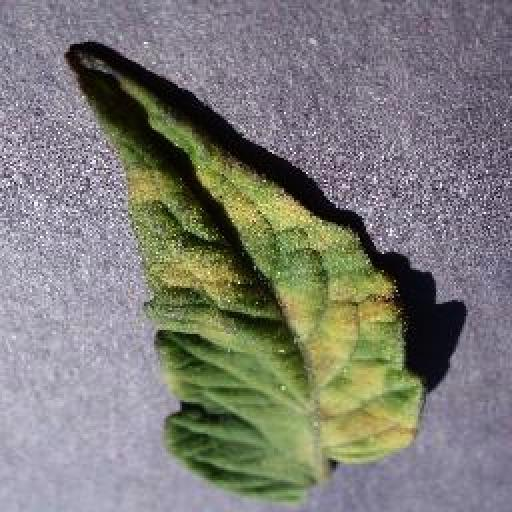disease_tomato: (64, 44, 426, 500)
